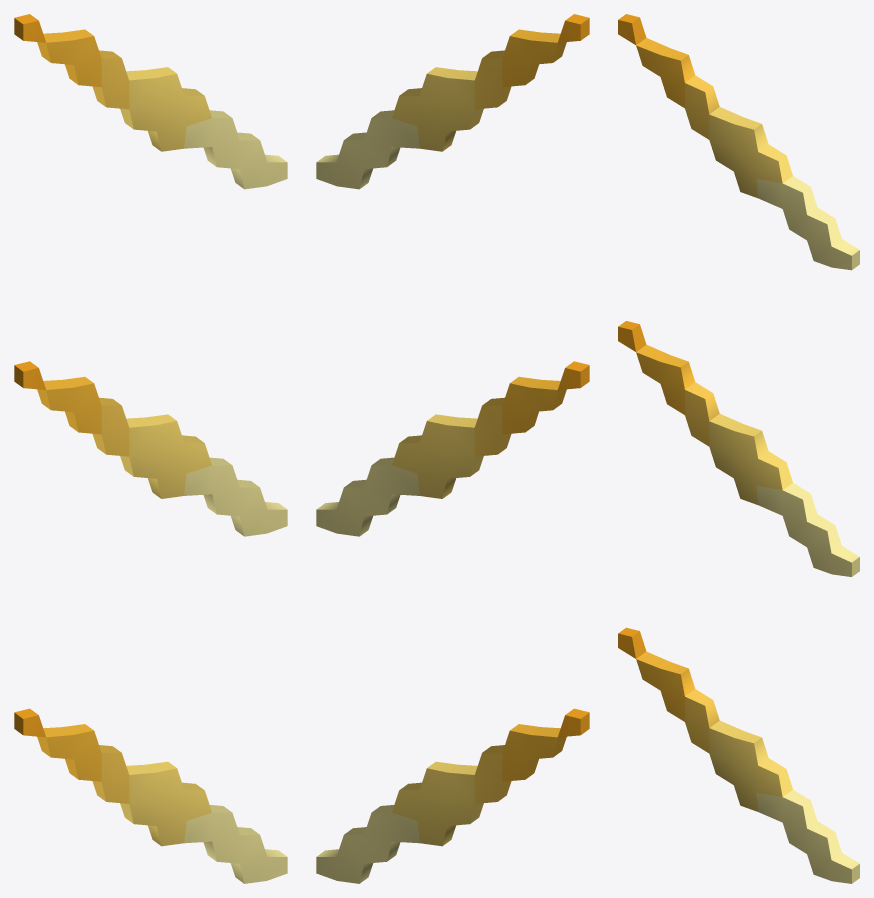
File: Fight_761_2_03.obj
3 views of the same model, side by side, from view 1: azimuth 30°, elevation 25°; view 2: azimuth 150°, elevation 25°; view 3: azimuth 330°, elevation 25° (orthographic). The views are drawn at different scales.
Size of the model in its own units: 0.9567 by 3.16 by 0.1.
Materials: 1 (1 with a texture image).
